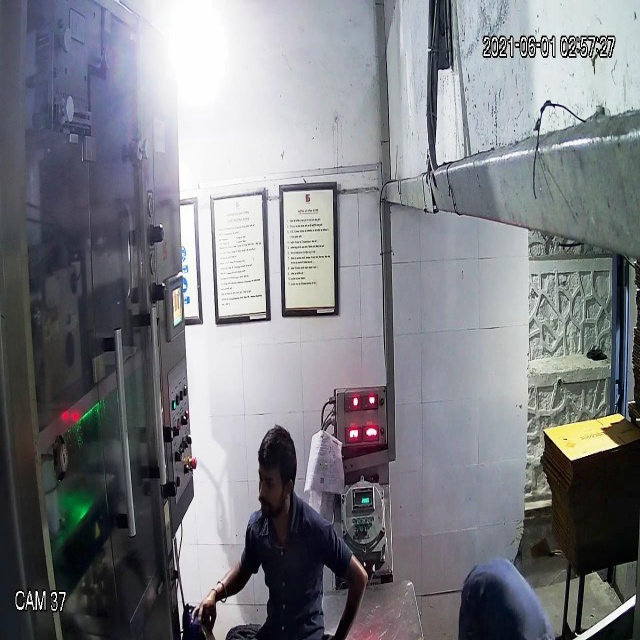Sin_gafas: (251, 464, 299, 495)
